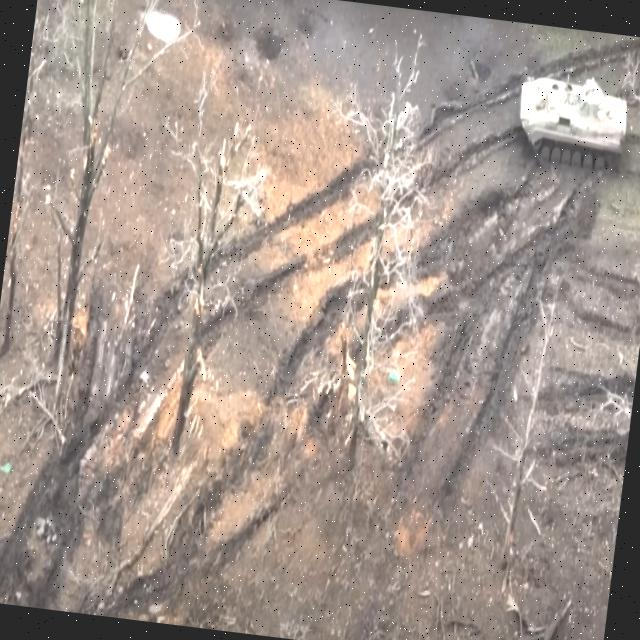AIFV: (512, 63, 633, 178)
